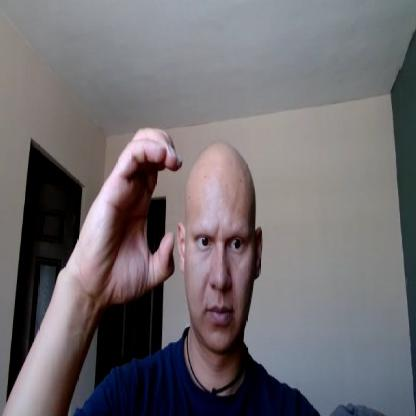C: (78, 126, 184, 298)
